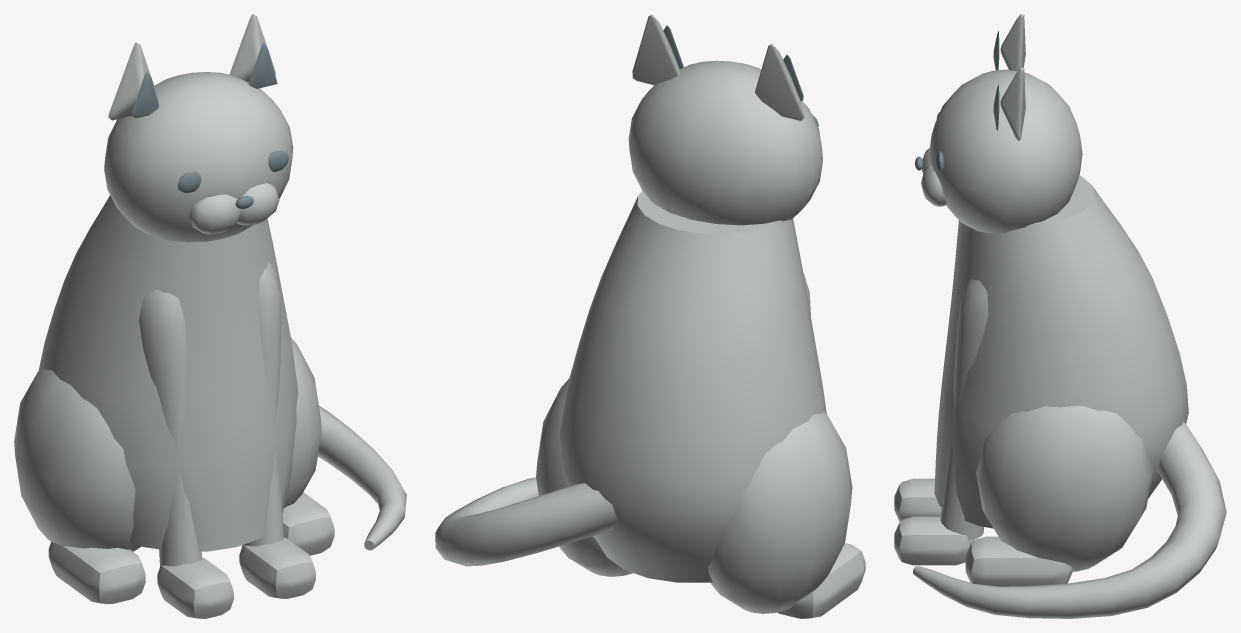
File: cat.glb
3 views of the same model, side by side, from view 1: azimuth 30°, elevation 25°; view 2: azimuth 150°, elevation 25°; view 3: azimuth 270°, elevation 25° (orthographic). The views are drawn at different scales.
Parts seen in each view (by area): view 1: seated_body, head, rounded_haunch, foreleg, curled_tail, hind_paw, foreleg.001, front_paw.001, front_paw, rounded_haunch.001, hind_paw.001, muzzle_pad (+5 smaller); view 2: seated_body, head, rounded_haunch, curled_tail, rounded_haunch.001, hind_paw, pointed_ear, pointed_ear.001; view 3: seated_body, rounded_haunch.001, head, curled_tail, foreleg.001, hind_paw.001, front_paw.001, front_paw, pointed_ear.001, pointed_ear, muzzle_pad.001.
Part boxes in pixels (left/top/right/bottom): seated_body: left=38, top=195, right=298, bottom=551; head: left=104, top=72, right=293, bottom=242; rounded_haunch: left=14, top=367, right=141, bottom=551; foreleg: left=139, top=289, right=201, bottom=566; curled_tail: left=318, top=405, right=406, bottom=550; hind_paw: left=48, top=542, right=145, bottom=604; foreleg.001: left=242, top=262, right=283, bottom=546; front_paw.001: left=239, top=537, right=315, bottom=598; front_paw: left=157, top=557, right=233, bottom=618; rounded_haunch.001: left=284, top=338, right=321, bottom=507; hind_paw.001: left=282, top=492, right=334, bottom=555; muzzle_pad: left=189, top=194, right=240, bottom=234; seated_body: left=559, top=191, right=826, bottom=582; head: left=628, top=60, right=822, bottom=225; rounded_haunch: left=708, top=411, right=852, bottom=613; curled_tail: left=435, top=477, right=617, bottom=566; rounded_haunch.001: left=536, top=379, right=633, bottom=576; hind_paw: left=777, top=543, right=865, bottom=618; pointed_ear: left=755, top=43, right=804, bottom=120; pointed_ear.001: left=632, top=14, right=680, bottom=85; seated_body: left=934, top=175, right=1188, bottom=528; rounded_haunch.001: left=976, top=405, right=1152, bottom=571; head: left=929, top=69, right=1082, bottom=233; curled_tail: left=913, top=422, right=1226, bottom=618; foreleg.001: left=940, top=279, right=988, bottom=540; hind_paw.001: left=965, top=536, right=1072, bottom=586; front_paw.001: left=894, top=516, right=974, bottom=565; front_paw: left=894, top=478, right=941, bottom=521; pointed_ear.001: left=1000, top=67, right=1025, bottom=140; pointed_ear: left=1000, top=14, right=1025, bottom=71; muzzle_pad.001: left=921, top=163, right=946, bottom=206.
Bounding box in the file's own units: 0.4302 × 0.6226 × 0.3724.
